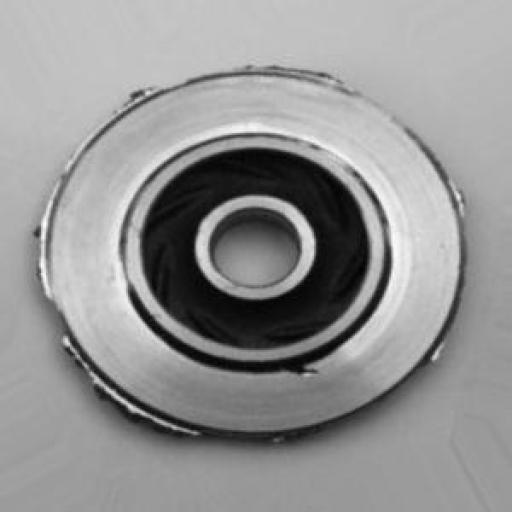defect: (28, 31, 482, 460)
